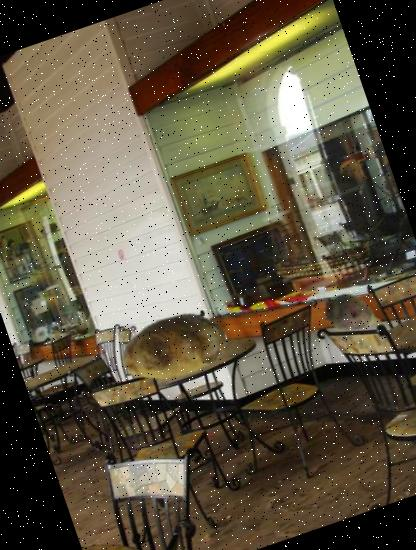Beetroot: (316, 274, 394, 352)
Ginger: (106, 278, 243, 415)
